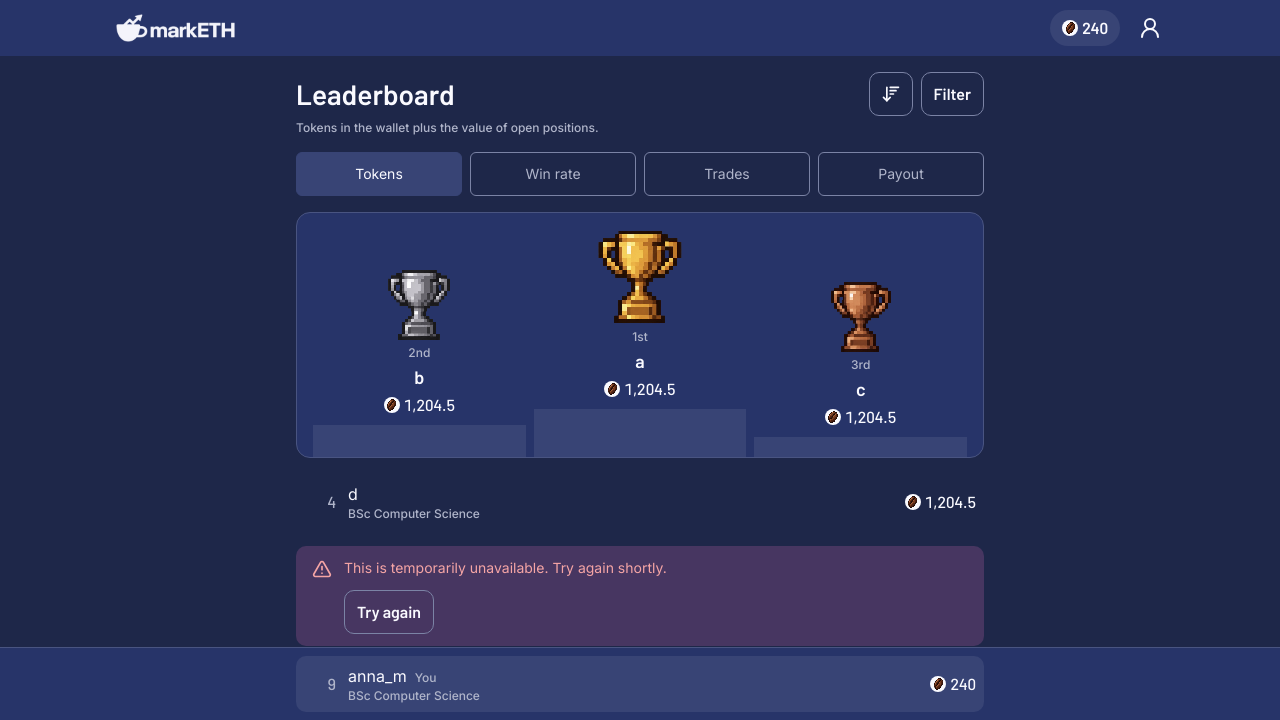
Test: paging › a page that failed keeps the rows that are there and asks again only on tap
Expected: the text "d" is shown, [348,482,358,506]
Expected: the message shows "This is temporarily unavailable. Try again shortly.", [344,559,667,576]
Click the button "Try again" at point(389, 612), box [344,590,434,634]
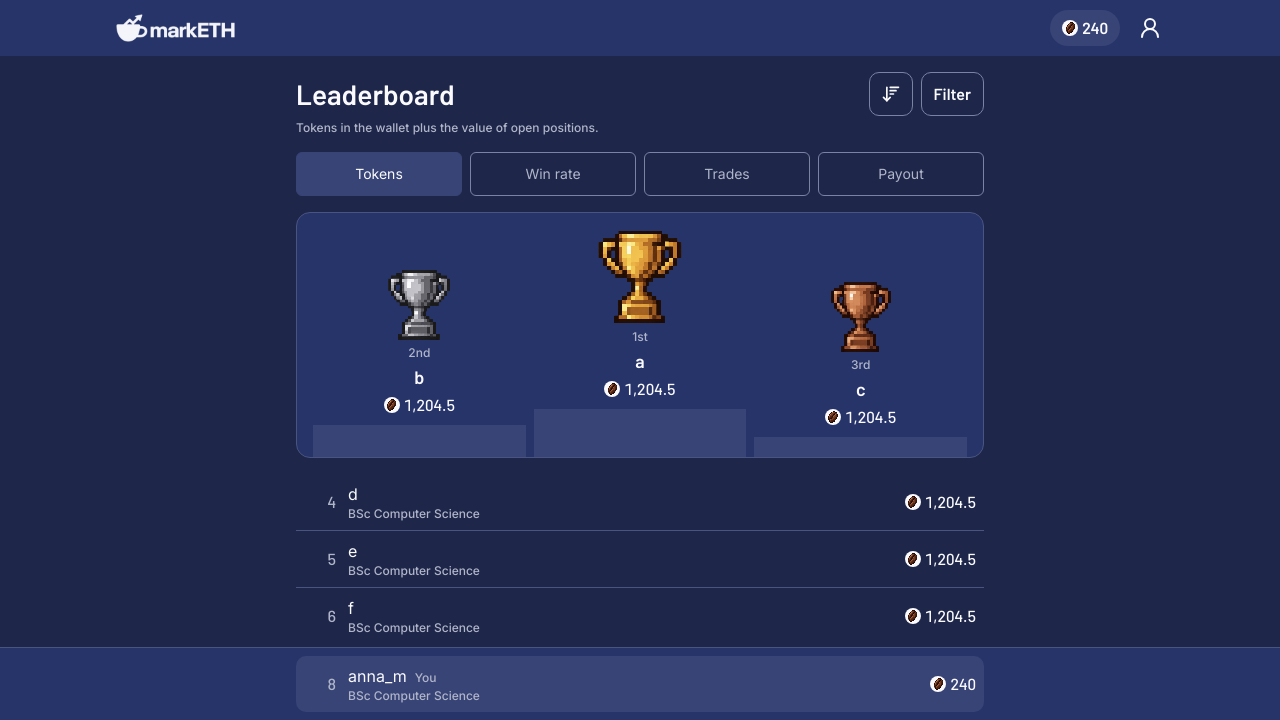
Now the text "f" is shown, box [348,596,354,620]
